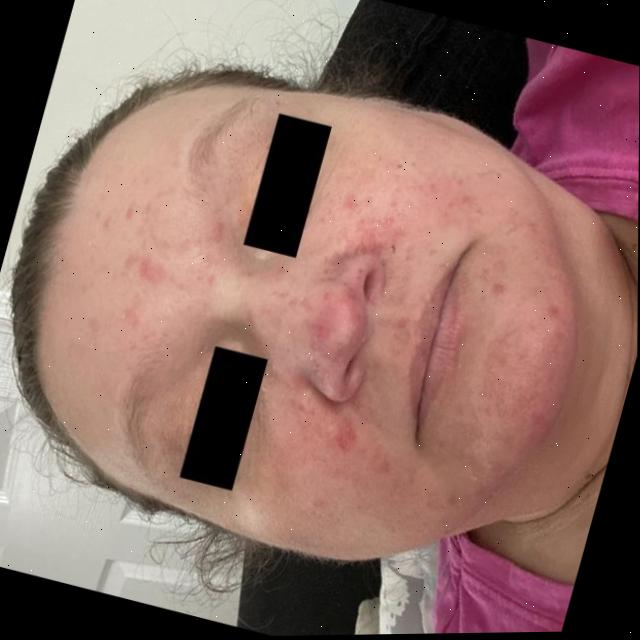Rosacea: (264, 174, 464, 489), (436, 295, 589, 492), (79, 192, 216, 345)
